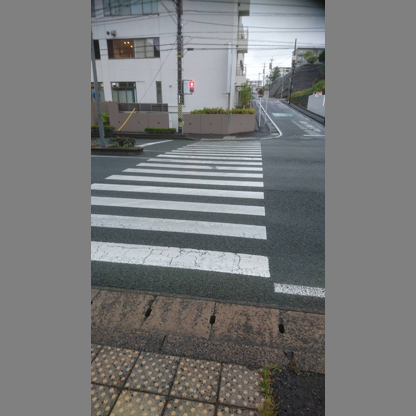brailleblock: (122, 357, 178, 416), (162, 362, 221, 416), (93, 351, 142, 415), (200, 366, 260, 416)
crosswalk: (91, 182, 273, 284), (131, 162, 265, 213), (157, 153, 263, 195), (180, 143, 261, 164)
signal: (189, 81, 194, 93)
